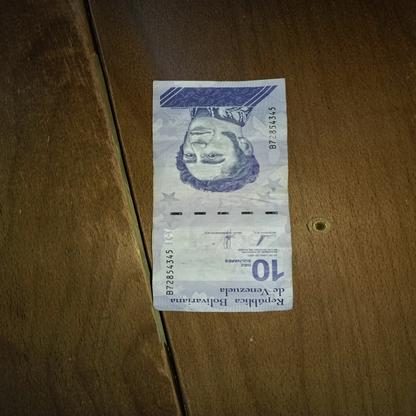ten-front-vef: (150, 78, 296, 312)
